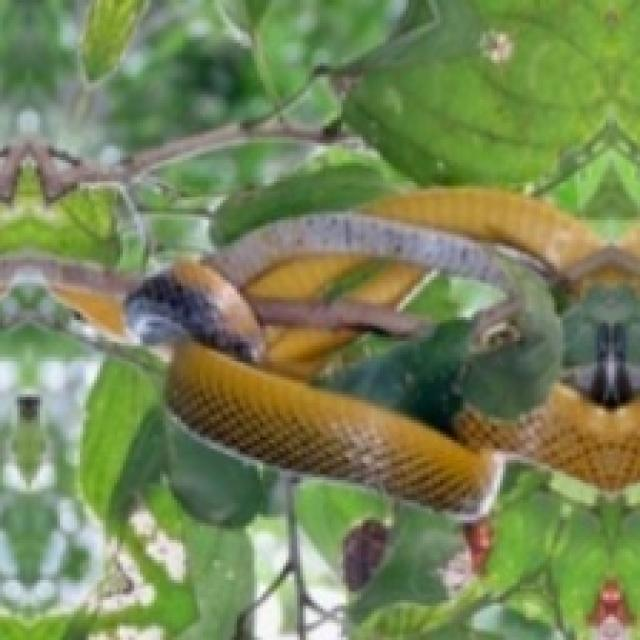red-tailed green ratsnake: (126, 191, 637, 523), (320, 257, 506, 326)
